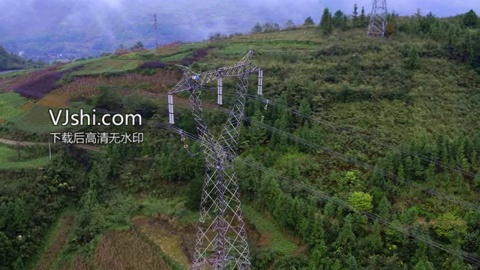tower_body: (159, 47, 266, 270)
tower_foot: (190, 223, 253, 270)
tower_head: (162, 48, 258, 166)
